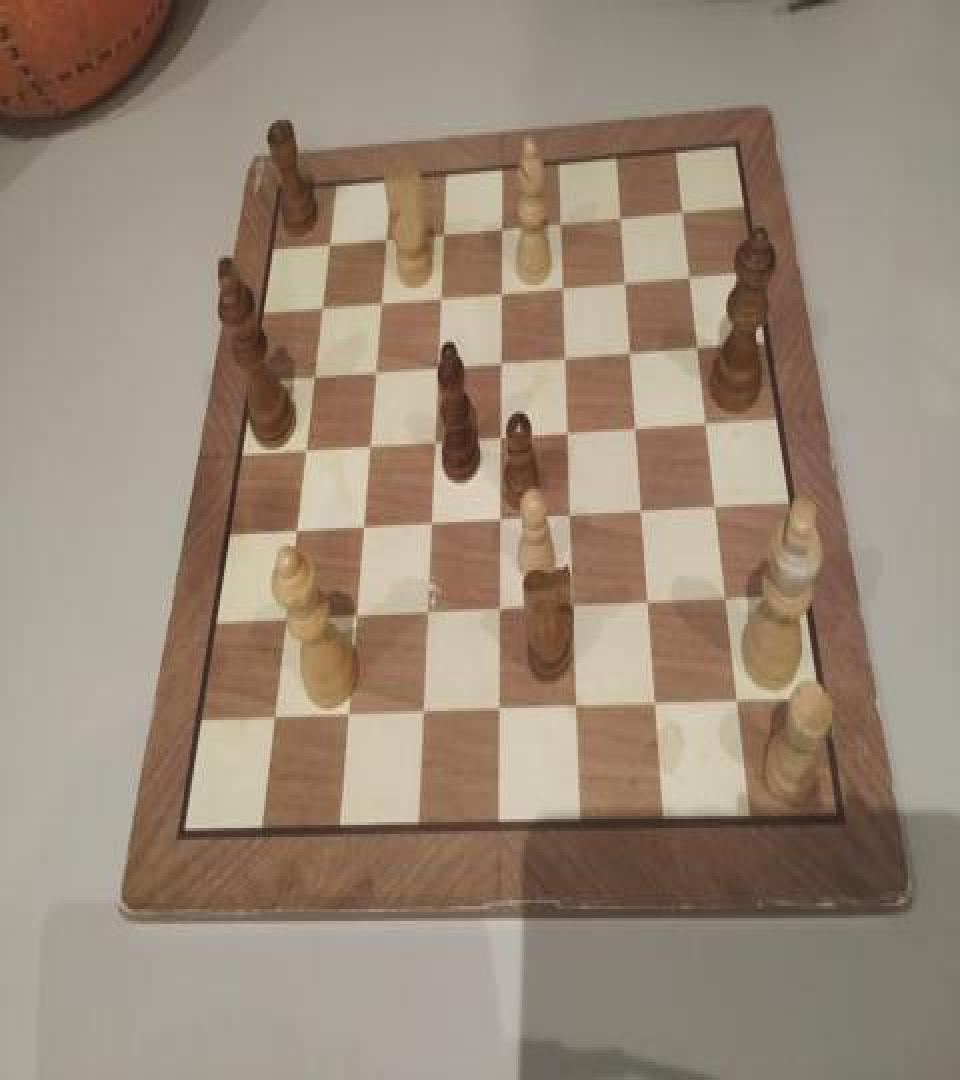xcorner: (319, 223, 339, 254), (261, 700, 281, 730), (411, 696, 431, 726), (488, 694, 508, 724), (567, 693, 587, 723), (647, 692, 667, 722), (344, 598, 364, 628), (489, 594, 509, 624), (564, 591, 584, 621), (639, 588, 659, 618), (716, 585, 736, 615), (284, 512, 304, 542), (352, 508, 372, 538), (420, 506, 440, 536), (490, 502, 510, 532), (561, 498, 581, 528), (633, 495, 653, 525), (706, 492, 726, 522), (294, 429, 314, 459), (358, 426, 378, 456), (424, 423, 444, 453), (490, 418, 510, 448), (558, 416, 578, 446), (626, 411, 646, 441), (696, 408, 716, 438), (303, 356, 323, 386), (365, 351, 385, 381), (427, 346, 447, 376), (491, 344, 511, 374), (555, 339, 575, 369), (621, 334, 641, 364), (687, 330, 707, 360), (311, 286, 331, 316), (370, 282, 390, 312), (430, 278, 450, 308), (491, 274, 511, 304), (553, 270, 573, 300), (616, 266, 636, 296), (679, 261, 699, 291), (376, 219, 396, 249), (433, 214, 453, 244), (492, 210, 512, 240), (551, 206, 571, 236), (611, 201, 631, 231), (672, 196, 692, 226), (336, 698, 356, 727), (728, 689, 748, 718), (273, 602, 293, 631), (416, 596, 436, 625)
